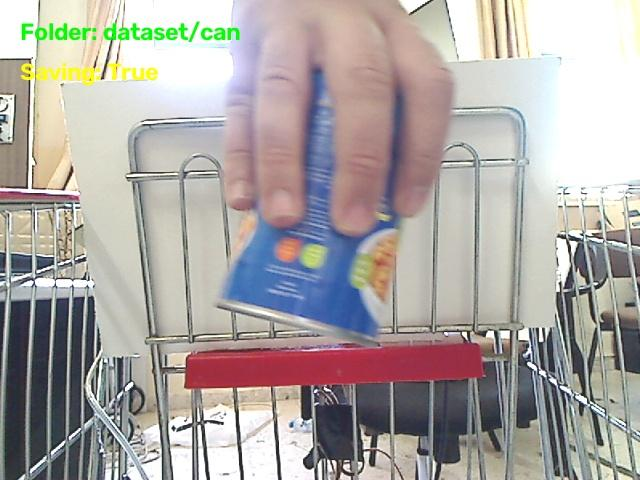can: (219, 76, 397, 342)
